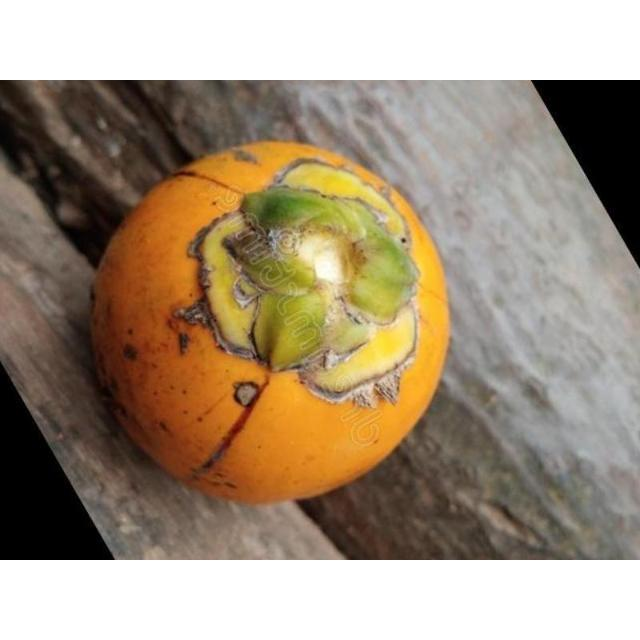good: (90, 141, 452, 508)
